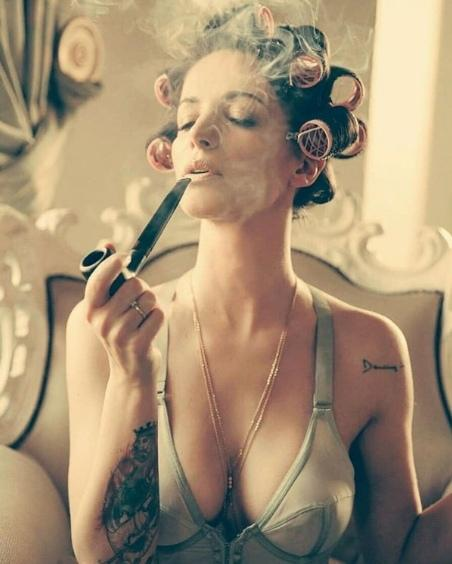trubka: (80, 177, 192, 296)
